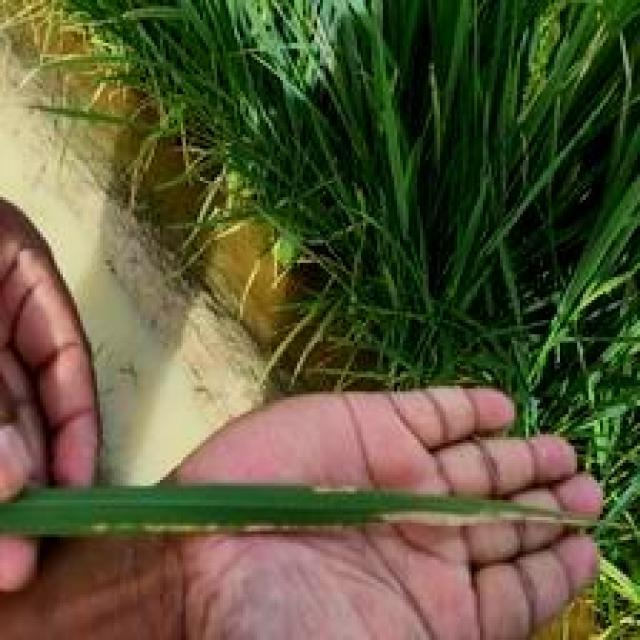Rice_Bacterial_Blight: (134, 468, 623, 566)
